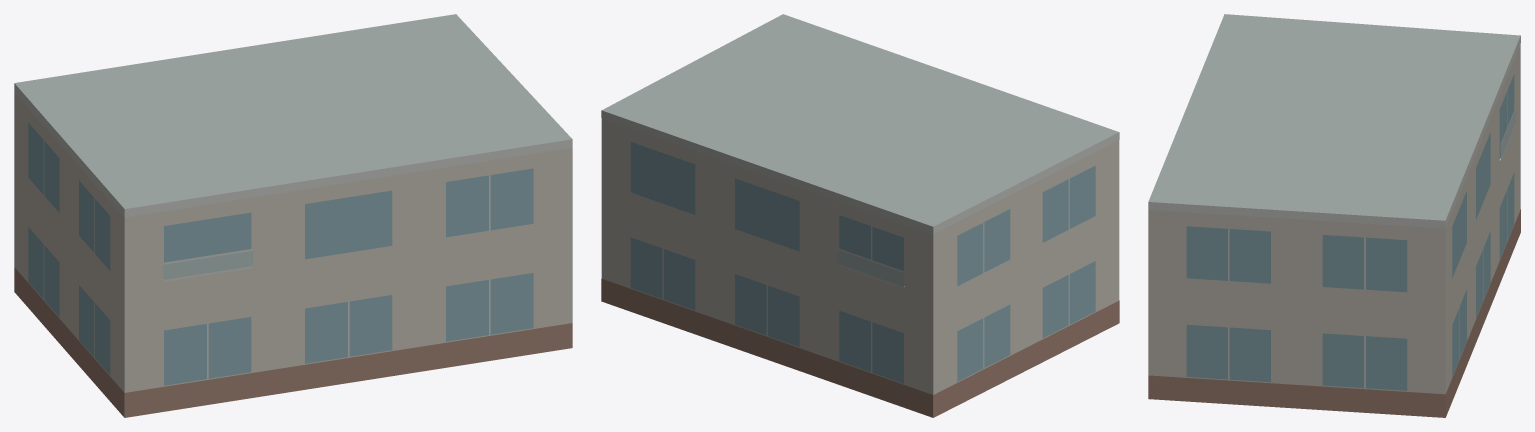
File: survey-upis-32658426.glb
The picture shows the model from 3 angles, left to right: view 1: azimuth 30°, elevation 25°; view 2: azimuth 150°, elevation 25°; view 3: azimuth 270°, elevation 25°; orthographic projection. The views are drawn at different scales.
Parts seen in each view (by area): view 1: survey-upis-32658426.tmp; view 2: survey-upis-32658426.tmp; view 3: survey-upis-32658426.tmp.
Part boxes in pixels (<box>): survey-upis-32658426.tmp: <box>14,14,572,417</box>; survey-upis-32658426.tmp: <box>601,14,1119,417</box>; survey-upis-32658426.tmp: <box>1148,14,1520,417</box>.
Size of the model in its own units: 13.73 by 6.1 by 10.45.
